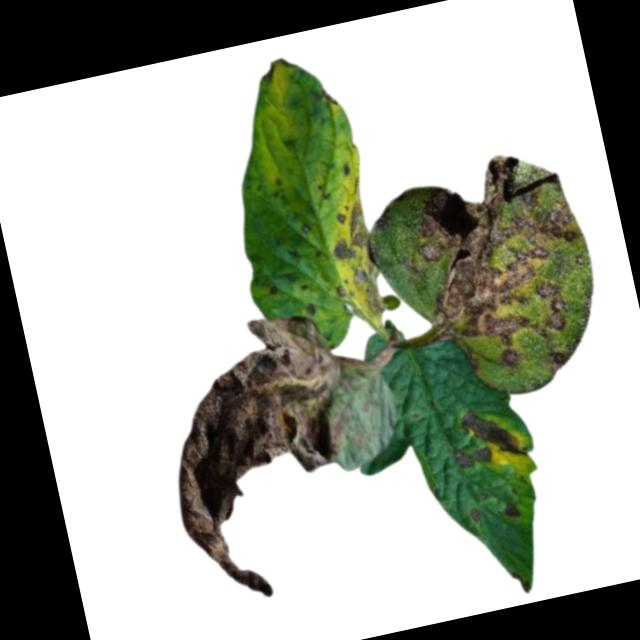Early_blight: (141, 302, 391, 614), (393, 136, 610, 387), (325, 190, 394, 330), (456, 402, 525, 468), (449, 441, 494, 476), (258, 55, 299, 86), (464, 505, 486, 529), (502, 500, 522, 521)
